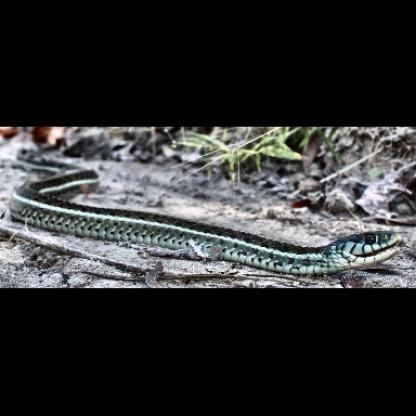Snake: (8, 164, 410, 282)
